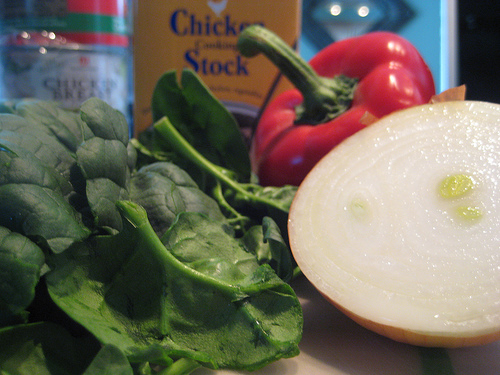capsicum: (236, 25, 436, 185)
